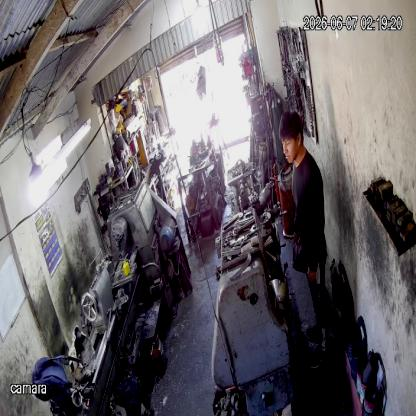sin_lentes: (279, 135, 295, 152)
